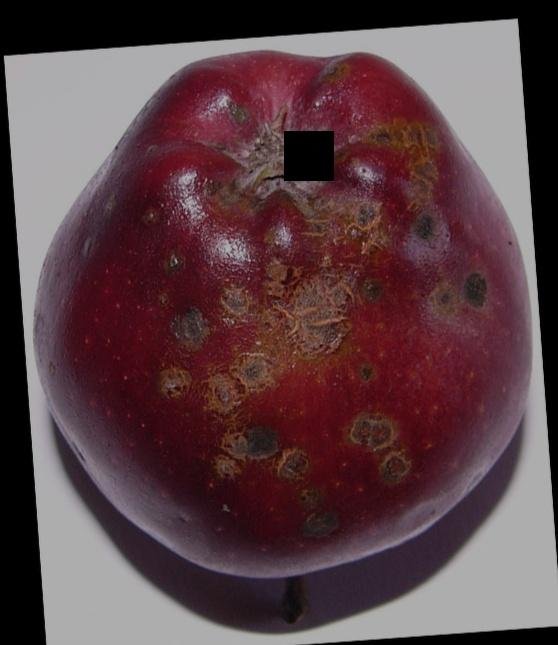rotten apple: (33, 49, 533, 591)
